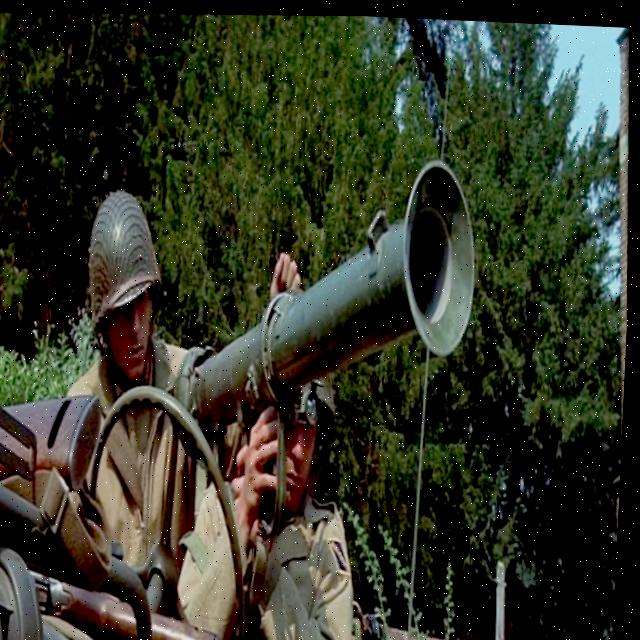rocket: (173, 142, 487, 448)
